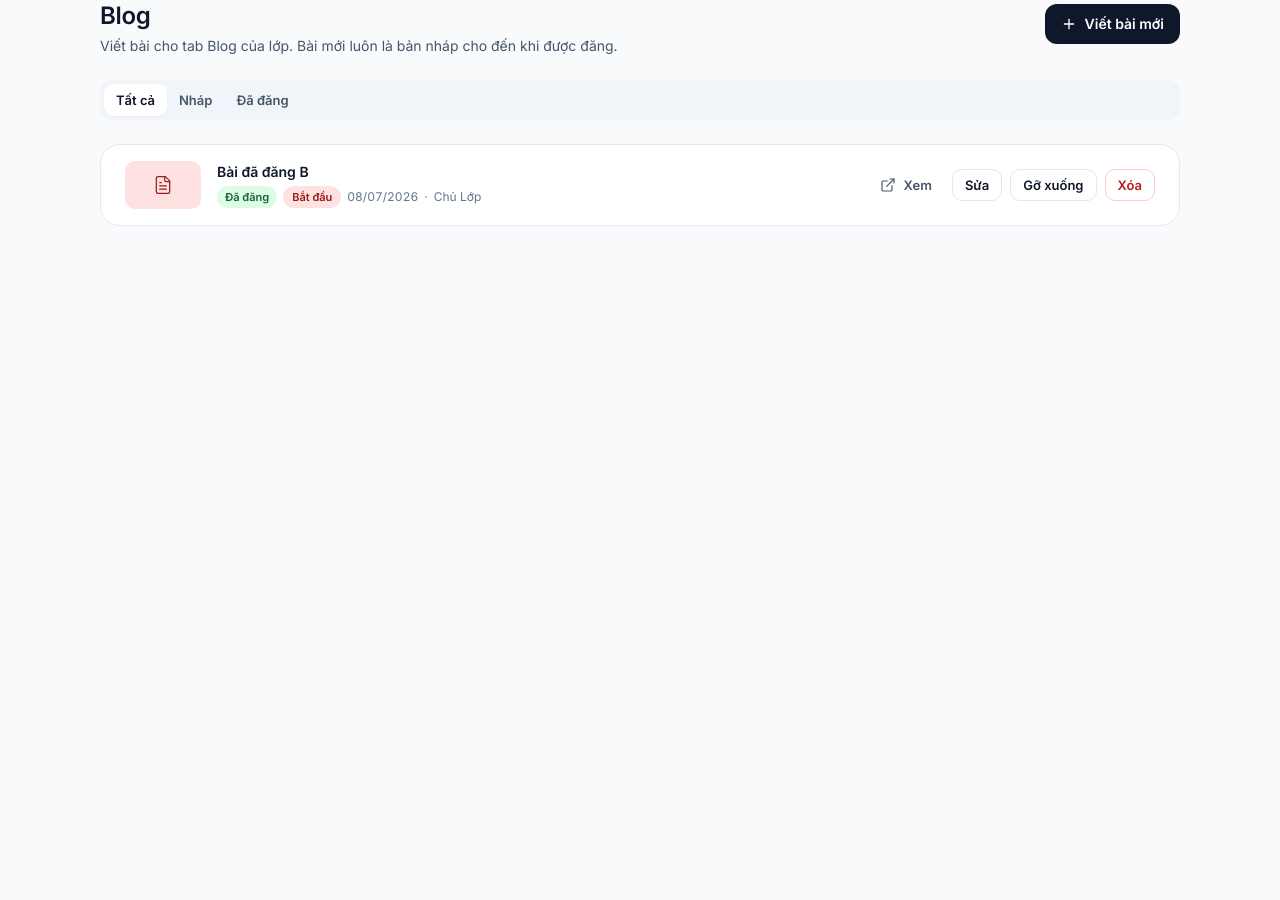
Test case: StudioBlog › edits: loads the full post first, then PUTs the edited fields
Click the button with aria-label "Sửa bài Bài đã đăng B" at {"x": 977, "y": 185}, box [952,169,1002,201]
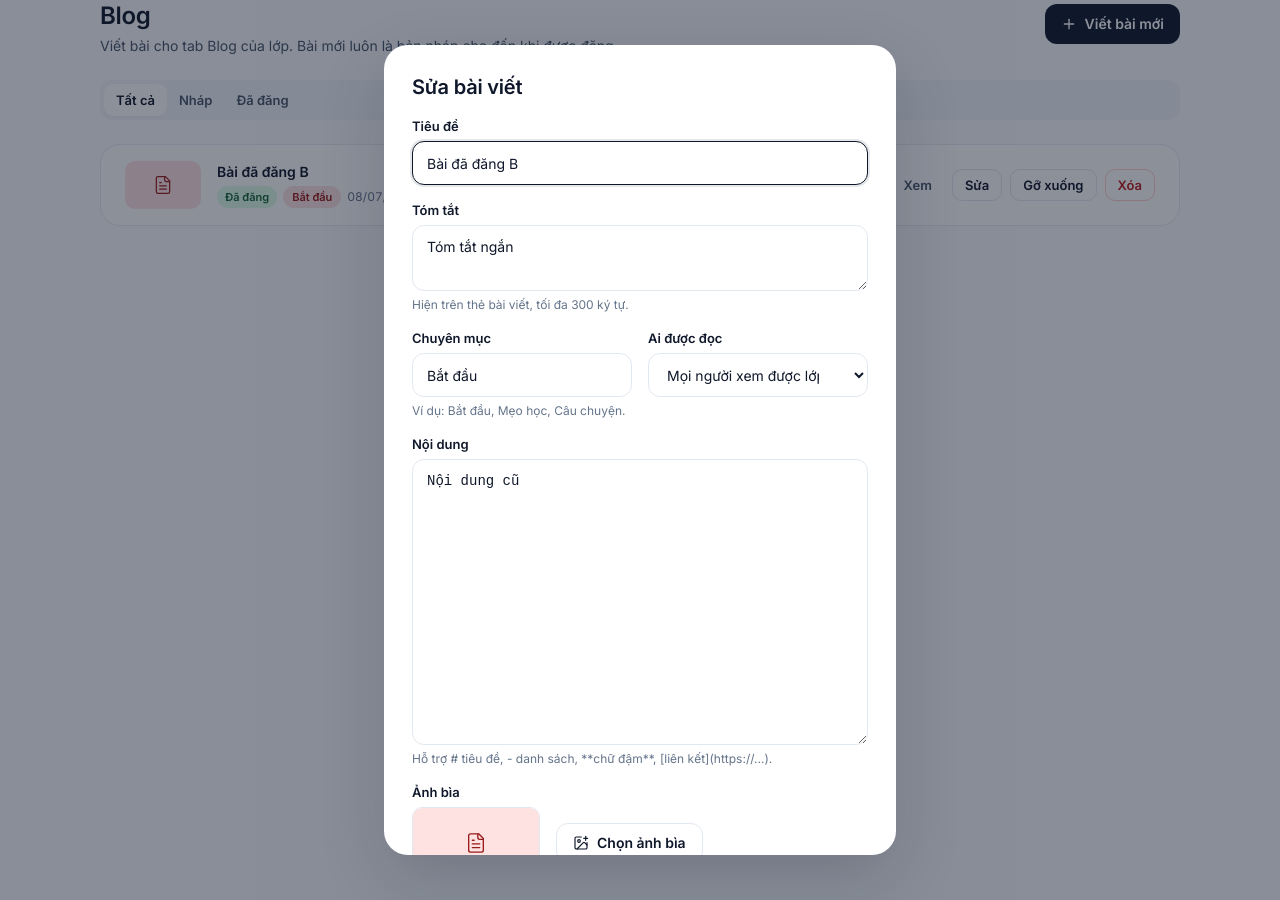
Check: the text box labelled "Nội dung" holds "Nội dung cũ", box [412,459,868,745]
Replace the text in the field labelled "Tiêu đề" with "Tiêu đề mới" at {"x": 640, "y": 163}, box [412,141,868,185]
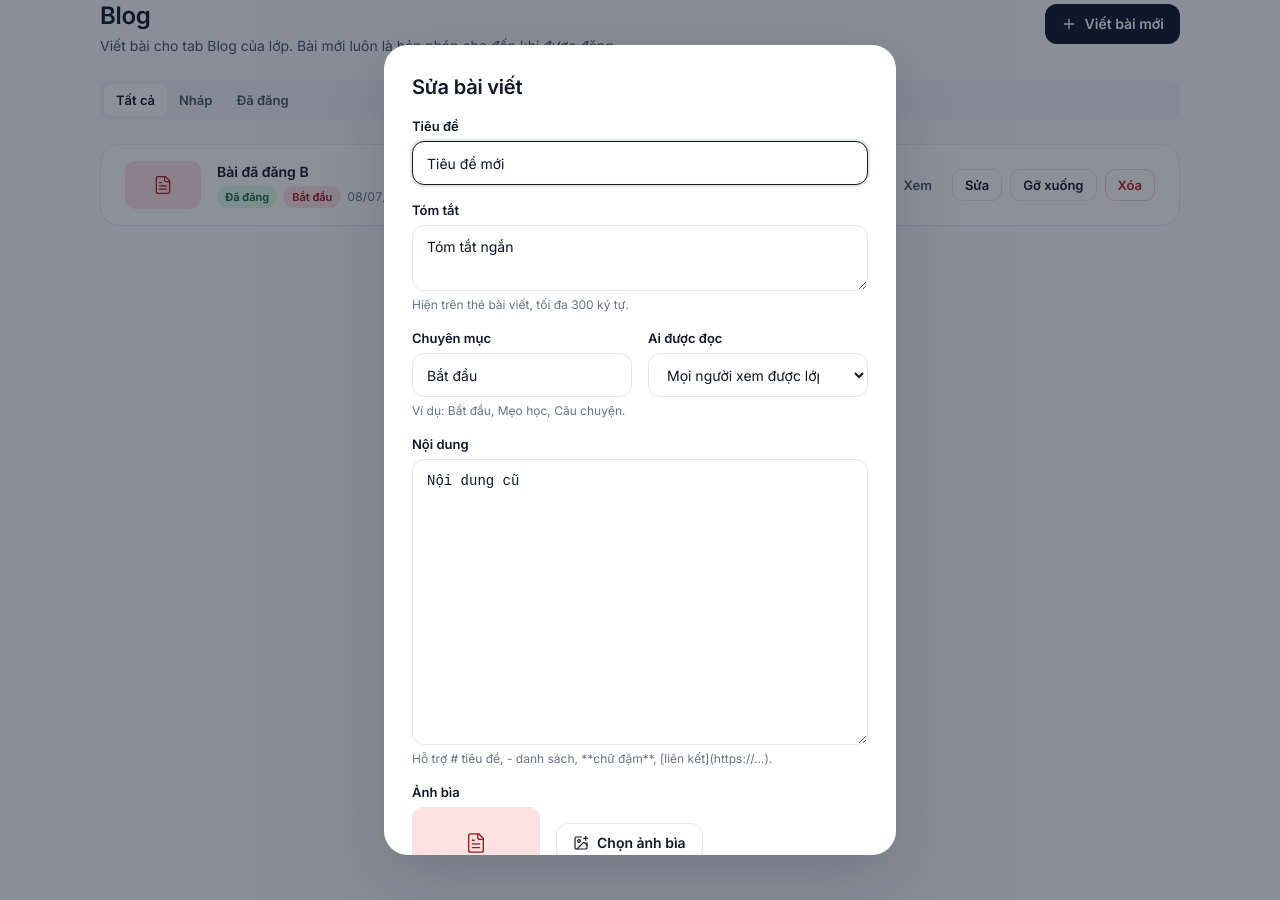
Clear the text box labelled "Tóm tắt" at {"x": 640, "y": 258}, box [412,225,868,291]
(page scrolled)
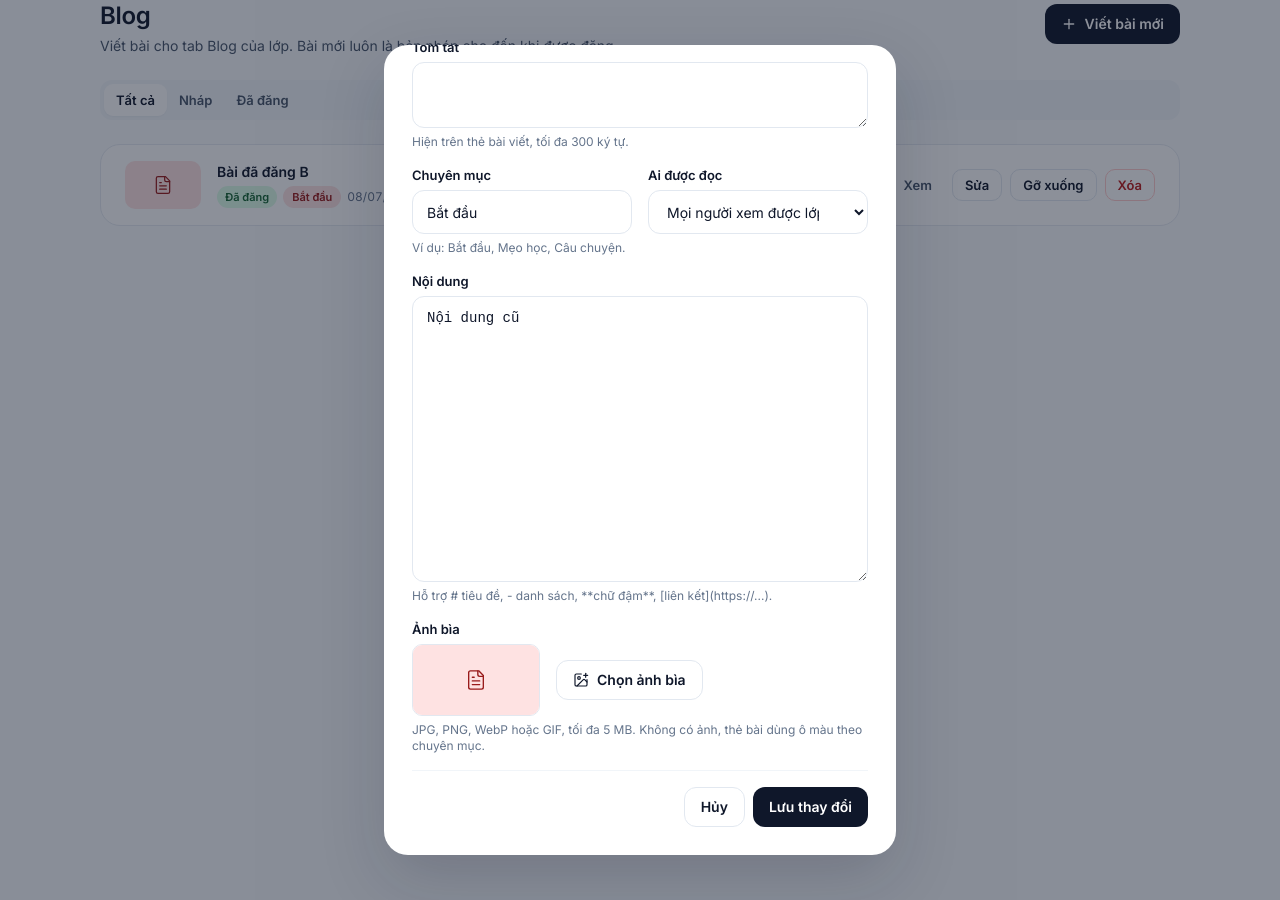
Click the button "Lưu thay đổi" at {"x": 810, "y": 807}, box [753,787,868,827]
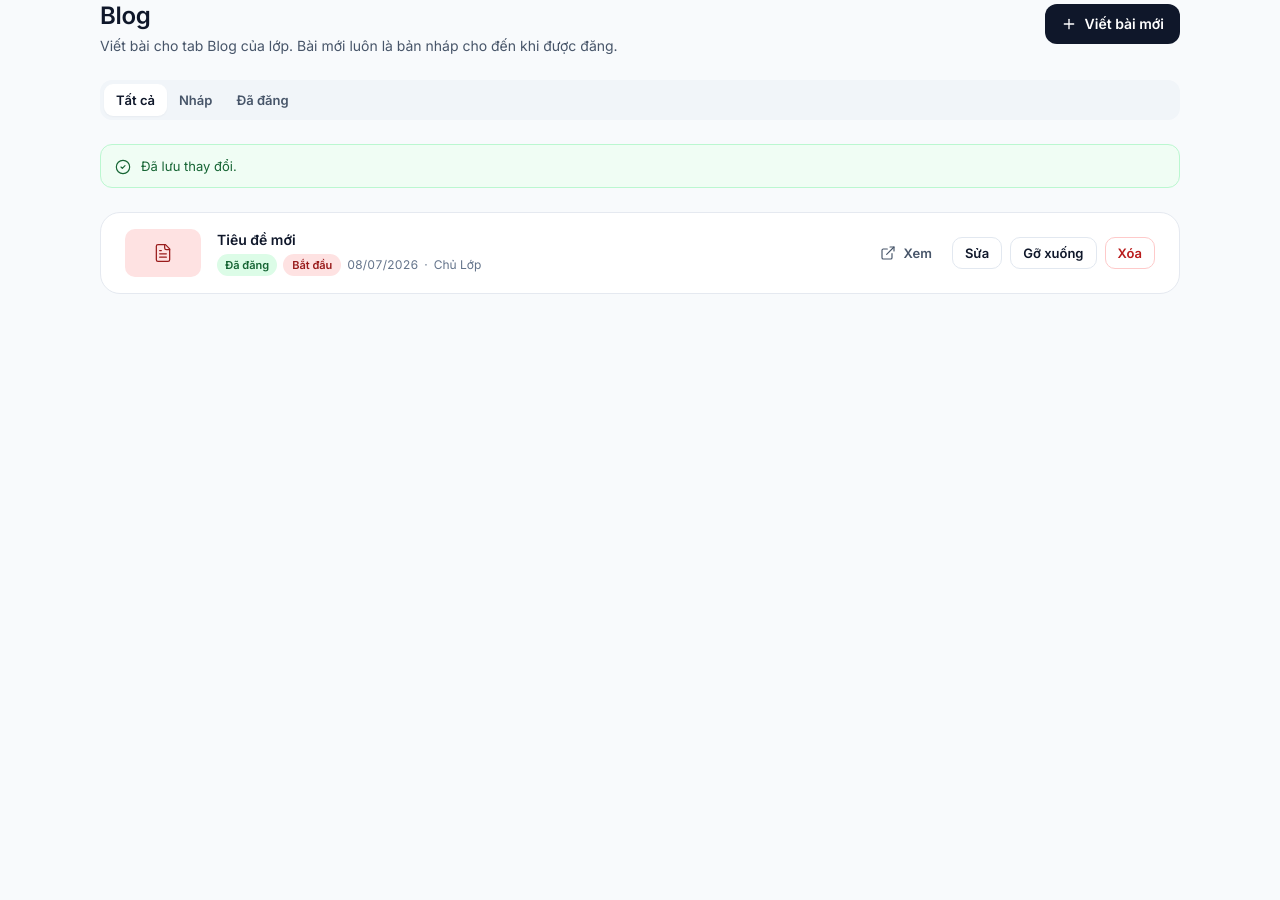
Check: the text "Tiêu đề mới" is shown, box [217,231,296,248]
